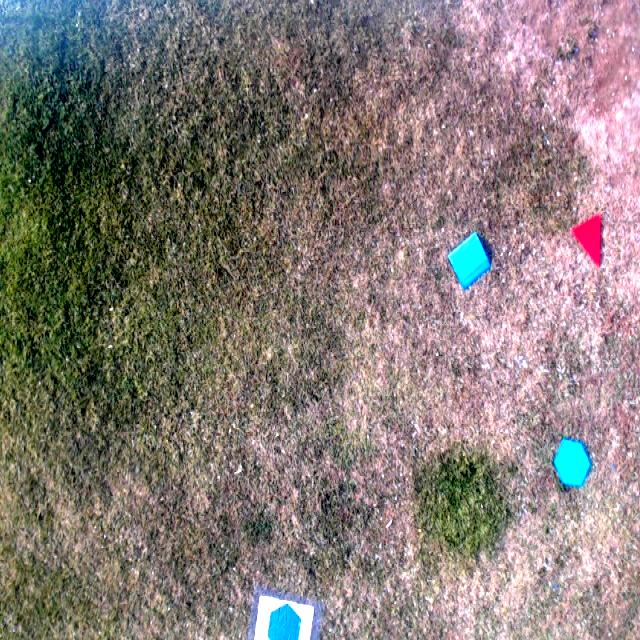blue_hexagon: (552, 439, 591, 488)
blue_square: (448, 231, 493, 291)
red_triangle: (572, 212, 600, 268)
